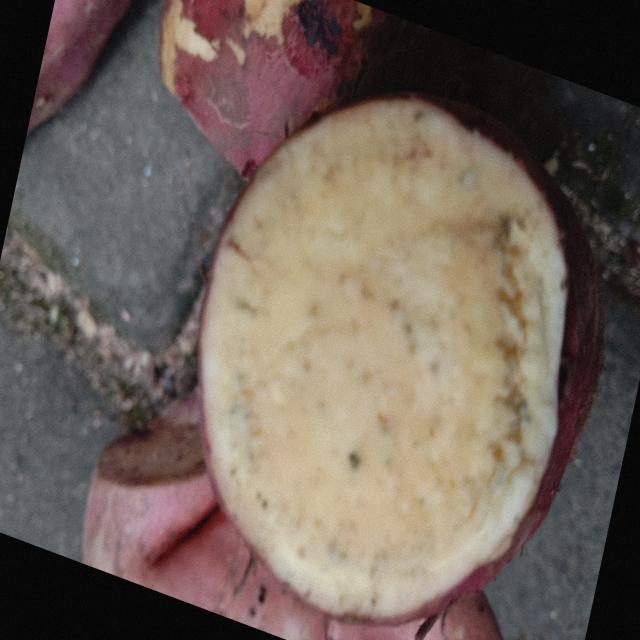Healthy Sweet Potato: (201, 100, 566, 618)
